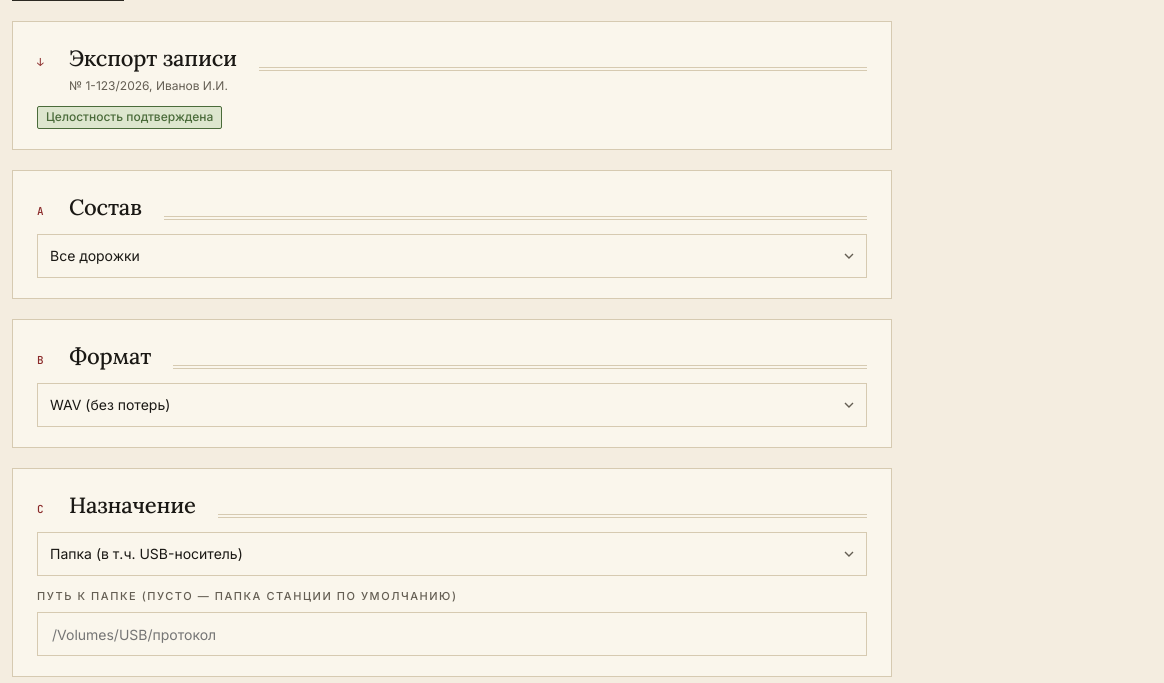
Scenario: ExportScreen › счастливый путь: собирает пакет с выбранным форматом и показывает сводку
Expected: the text "Целостность подтверждена" is shown, 37,106 -> 222,129
Click the dropdown named "Формат аудио" at (110, 405), box 37,383 -> 867,427
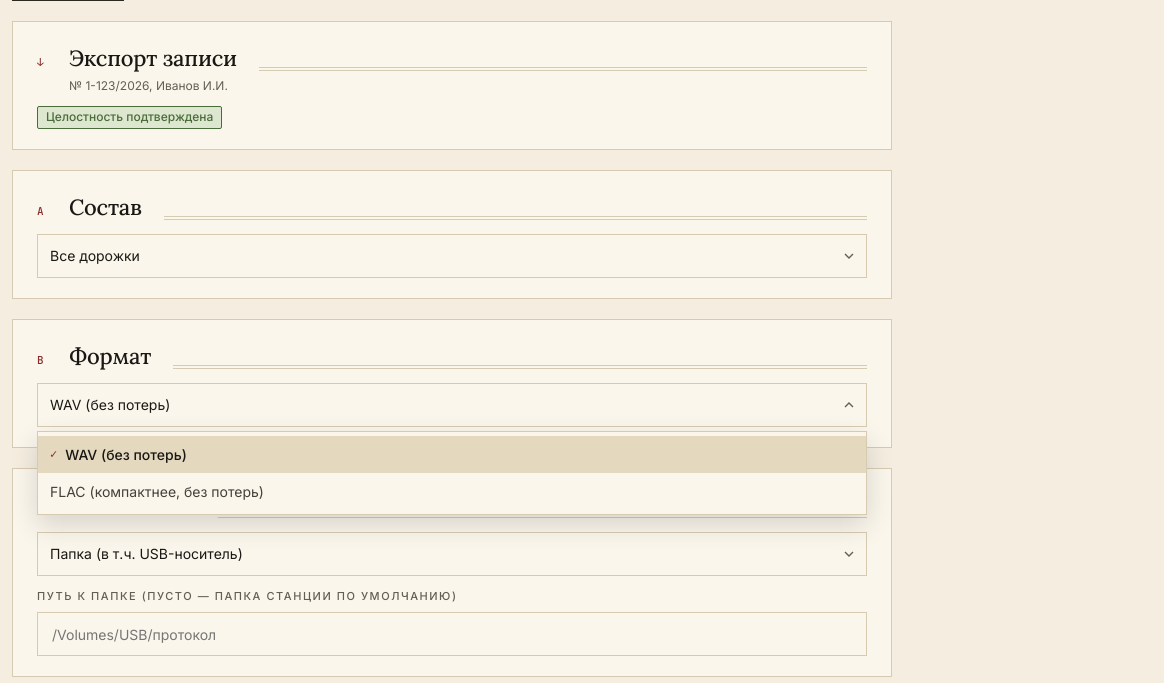
Click the option "FLAC (компактнее, без потерь)" at (157, 491), box 50,483 -> 264,500
(page scrolled)
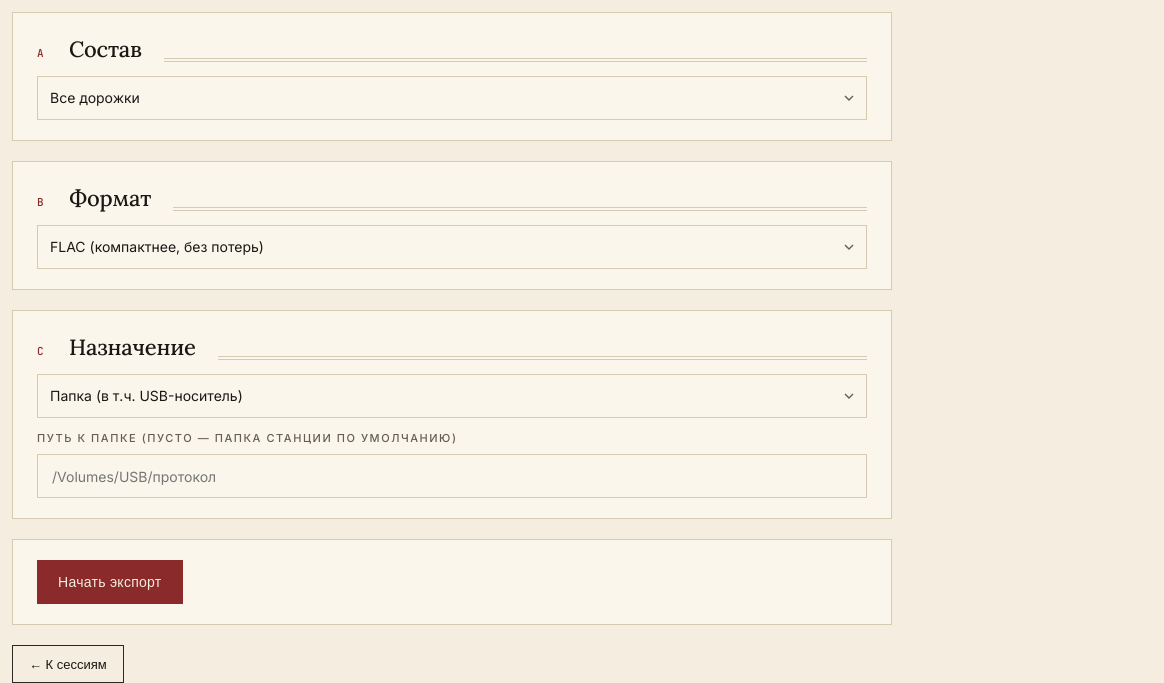
Click the button "Начать экспорт" at (110, 582), box 37,560 -> 183,604
(page scrolled)
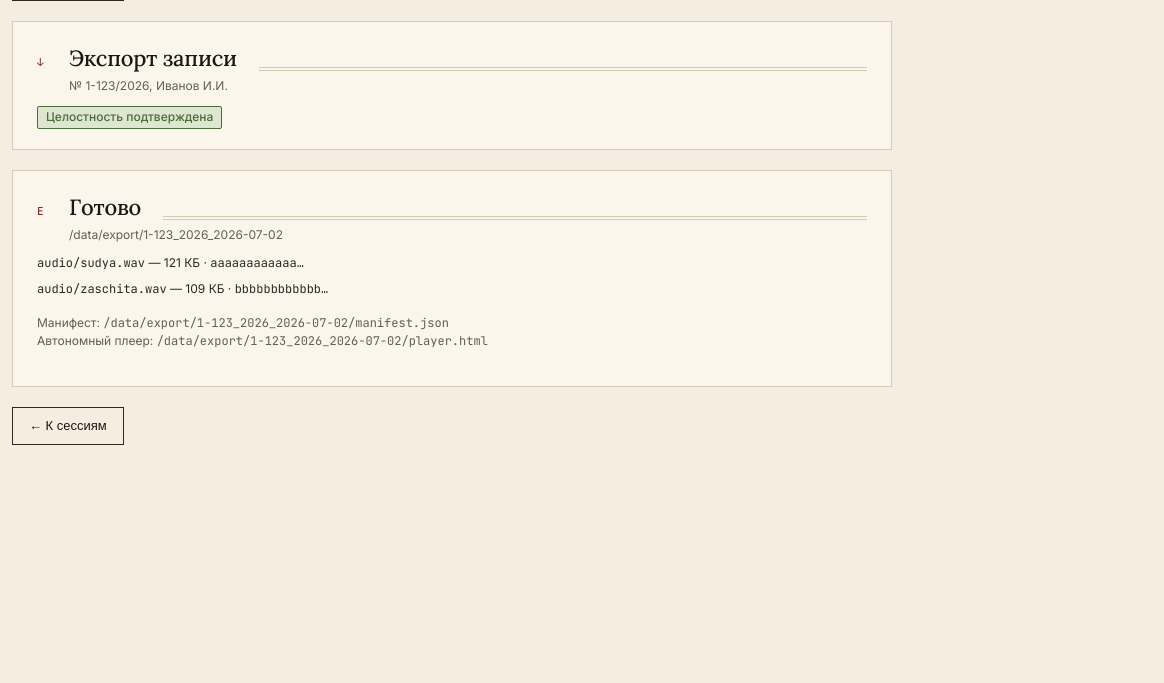
Expected: the text "audio/sudya.wav" is shown, 37,255 -> 145,271
Expected: the text "audio/zaschita.wav" is shown, 37,281 -> 167,297
